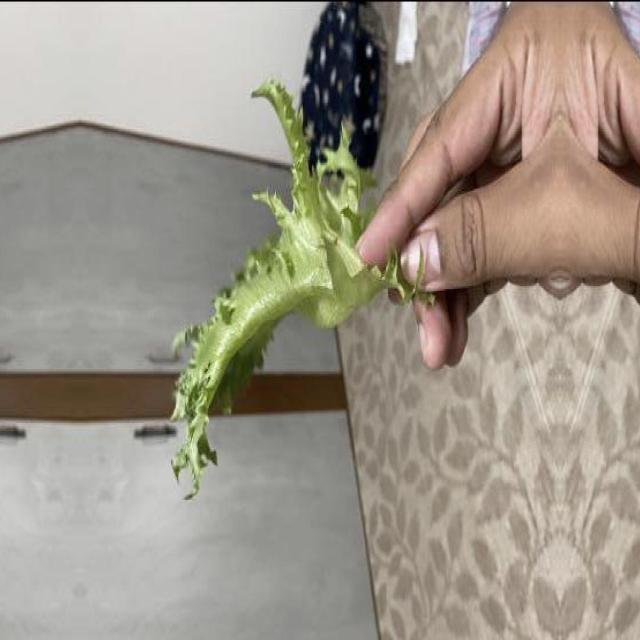healthy: (168, 75, 426, 515)
